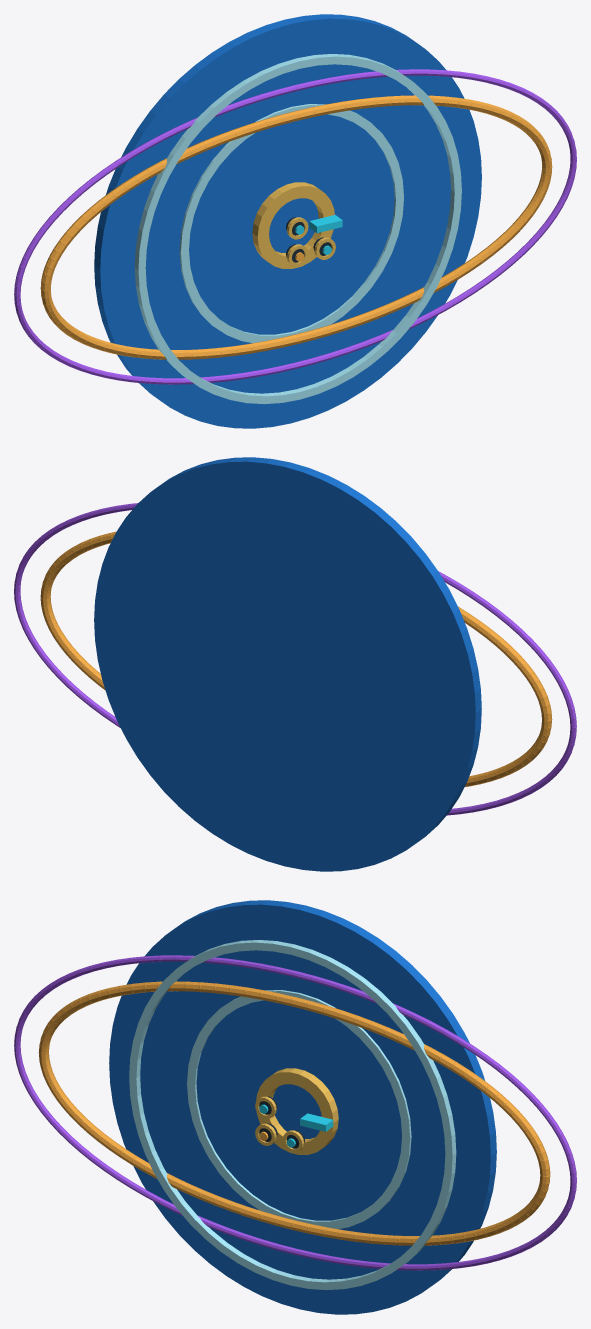
The model's file is 15_L83_OrbitalDayNightHologram.fbx.
The picture shows the model from 3 angles, top to bottom: view 1: azimuth 30°, elevation 25°; view 2: azimuth 150°, elevation 25°; view 3: azimuth 330°, elevation 25°; orthographic projection.
Parts seen in each view (by area): view 1: OrbitalDayNightHologram, OrbitalDayNightHologram_Part_0399, OrbitalDayNightHologram_Part_0400, OrbitalDayNightHologram_Part_0401; view 2: OrbitalDayNightHologram; view 3: OrbitalDayNightHologram, OrbitalDayNightHologram_Part_0399, OrbitalDayNightHologram_Part_0400, OrbitalDayNightHologram_Part_0401.
Part boxes in pixels (x1,y1,x2,y2): OrbitalDayNightHologram: (14,14,576,428); OrbitalDayNightHologram_Part_0399: (134,54,461,404); OrbitalDayNightHologram_Part_0400: (179,104,403,343); OrbitalDayNightHologram_Part_0401: (252,182,334,268); OrbitalDayNightHologram: (14,457,576,871); OrbitalDayNightHologram: (14,900,576,1314); OrbitalDayNightHologram_Part_0399: (129,940,456,1289); OrbitalDayNightHologram_Part_0400: (187,990,411,1229); OrbitalDayNightHologram_Part_0401: (256,1068,338,1154).
Bounding box in the file's own units: 348 × 236 × 31.2.
